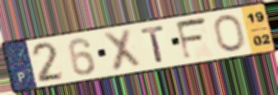2: (31, 41, 66, 84)
6: (67, 36, 97, 77)
F: (174, 15, 210, 63)
O: (213, 13, 248, 53)
T: (139, 24, 167, 64)
X: (101, 26, 144, 74)
